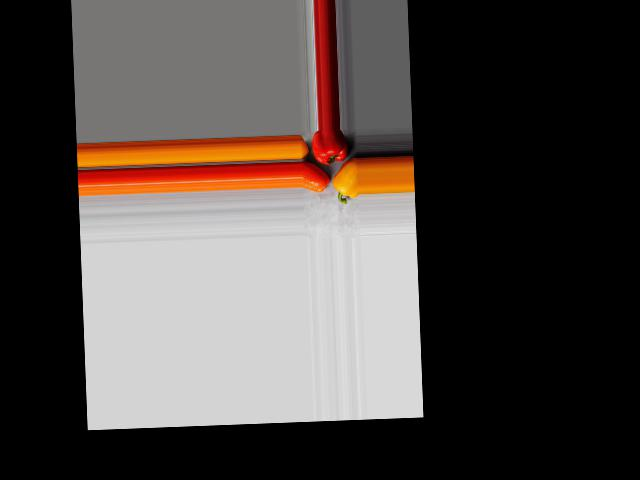bell_pepper: (311, 129, 350, 165)
